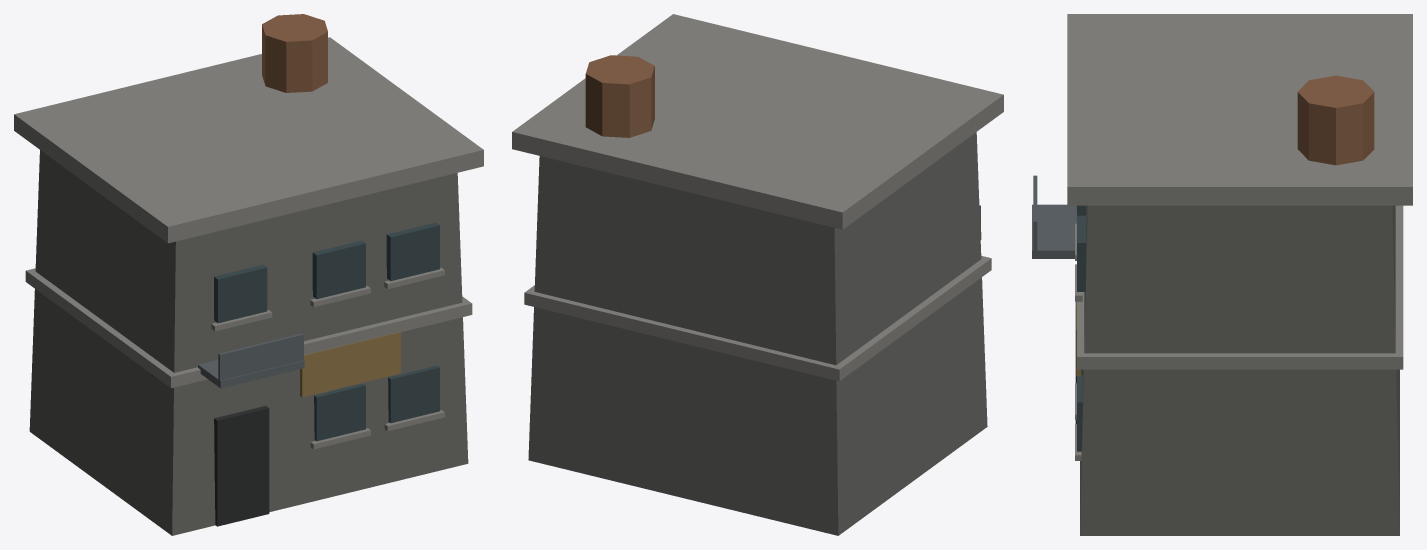
The model's file is town_house_2.glb.
3 renders of one model, left to right at view 1: azimuth 30°, elevation 25°; view 2: azimuth 150°, elevation 25°; view 3: azimuth 270°, elevation 25°, orthographic. The views are drawn at different scales.
Parts seen in each view (by area): view 1: body, roof, door, band, tank, paint, winB0, winB1, winB2, winA0, winA1, rail (+1 smaller); view 2: body, roof, band, tank; view 3: body, roof, band, tank, balcony, winB2.
Part boxes in pixels (<box>): body: <box>29,150,468,535</box>; roof: <box>14,37,483,243</box>; door: <box>214,406,269,526</box>; band: <box>25,268,472,388</box>; tank: <box>262,14,327,92</box>; paint: <box>300,332,400,397</box>; winB0: <box>214,264,267,323</box>; winB1: <box>312,240,365,299</box>; winB2: <box>386,222,439,280</box>; winA0: <box>314,383,365,441</box>; winA1: <box>388,365,439,423</box>; rail: <box>218,333,303,380</box>; body: <box>528,132,987,535</box>; roof: <box>512,14,1003,229</box>; band: <box>524,256,991,381</box>; tank: <box>585,55,654,137</box>; body: <box>1080,205,1399,535</box>; roof: <box>1067,14,1412,205</box>; band: <box>1077,205,1403,369</box>; tank: <box>1297,75,1374,165</box>; balcony: <box>1032,204,1076,258</box>; winB2: <box>1077,215,1085,291</box>.
Bounding box in the file's own units: 6.4 × 7.1 × 5.95.
